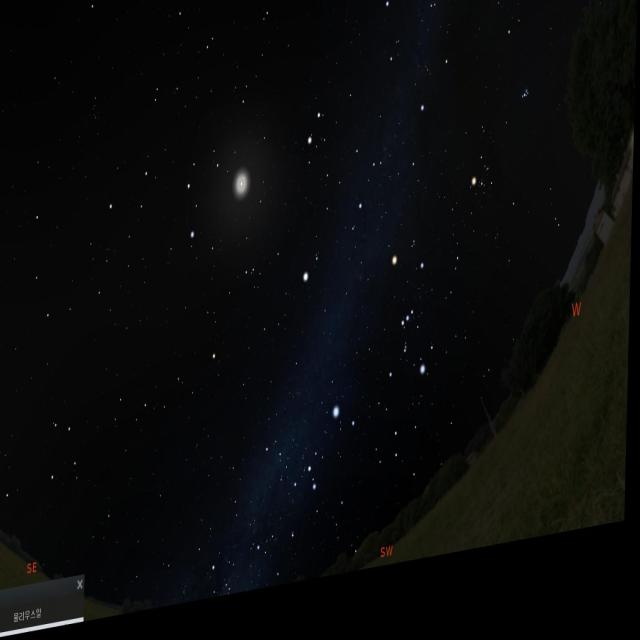canis_major: (306, 408, 363, 511)
canis_minor: (300, 256, 324, 306)
gemini: (301, 104, 389, 268)
leo: (101, 137, 225, 281)
moon: (229, 158, 256, 220)
orion: (384, 256, 436, 412)
pleiades: (521, 102, 533, 131)
taurus: (472, 72, 538, 236)
